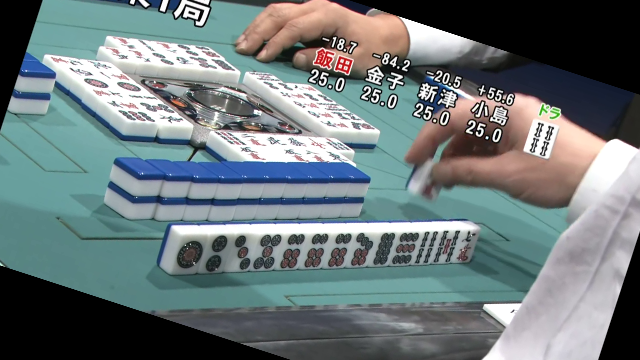Tehai: (166, 216, 477, 275)
